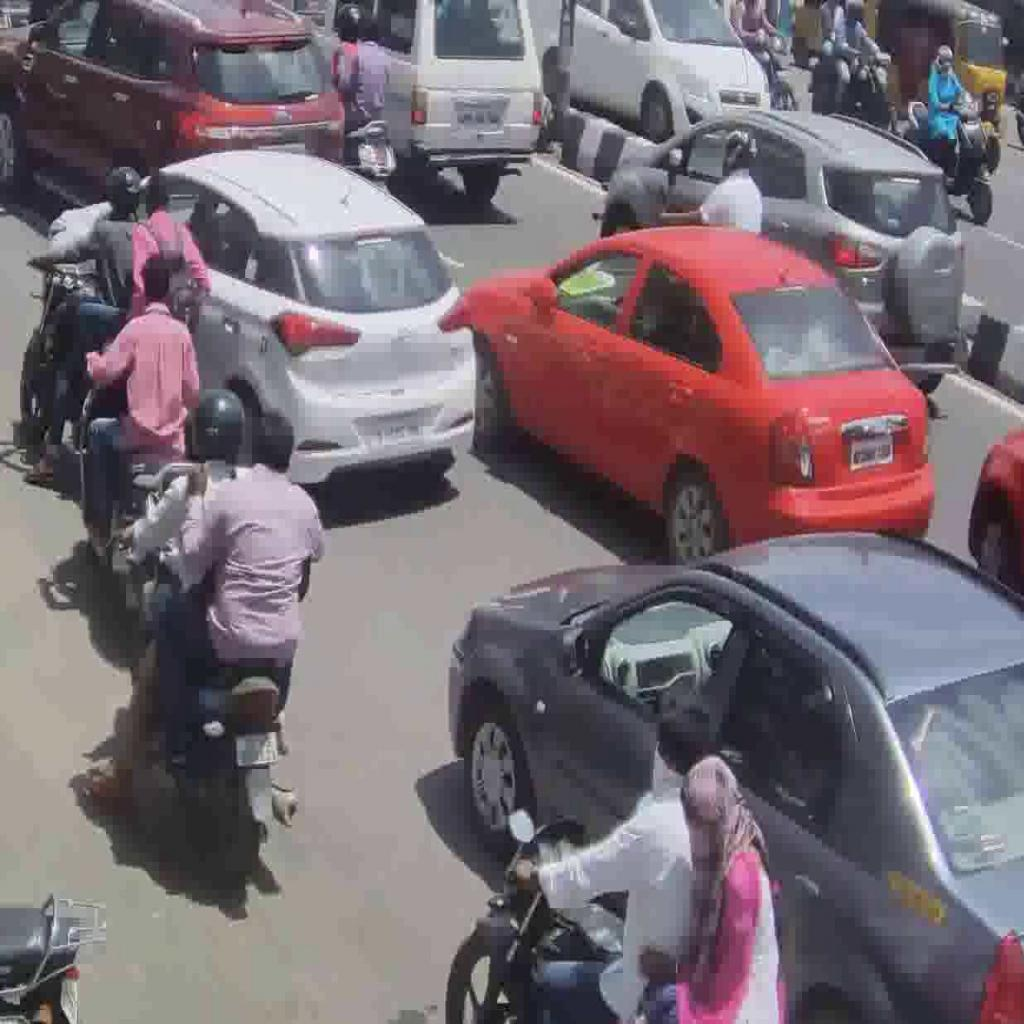helmet: (140, 469, 302, 883), (445, 815, 725, 1024)
